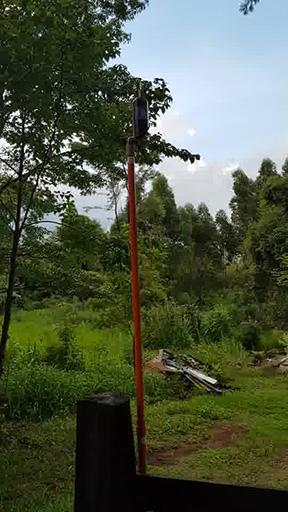Vara_Manobra: (124, 142, 150, 475), (128, 83, 148, 146)
